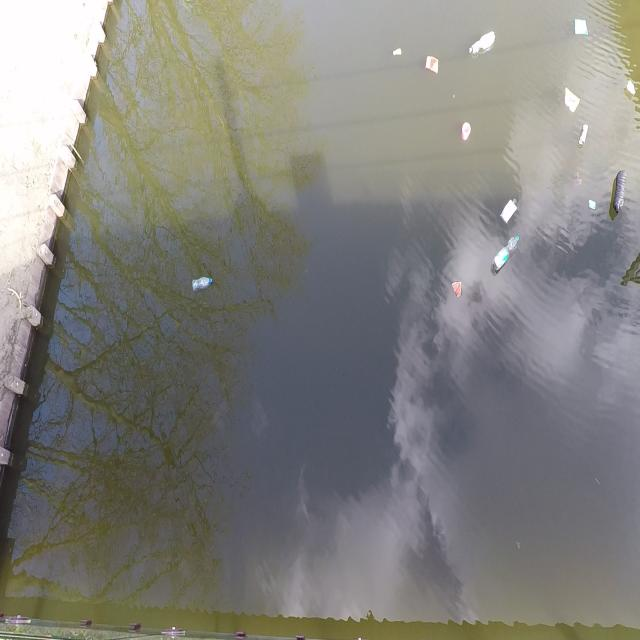Autre plastique: (458, 118, 475, 144)
Bouteille plastique: (490, 230, 522, 276), (468, 26, 500, 59), (613, 164, 629, 220), (190, 273, 216, 296)
Non plastique: (577, 124, 591, 150)
